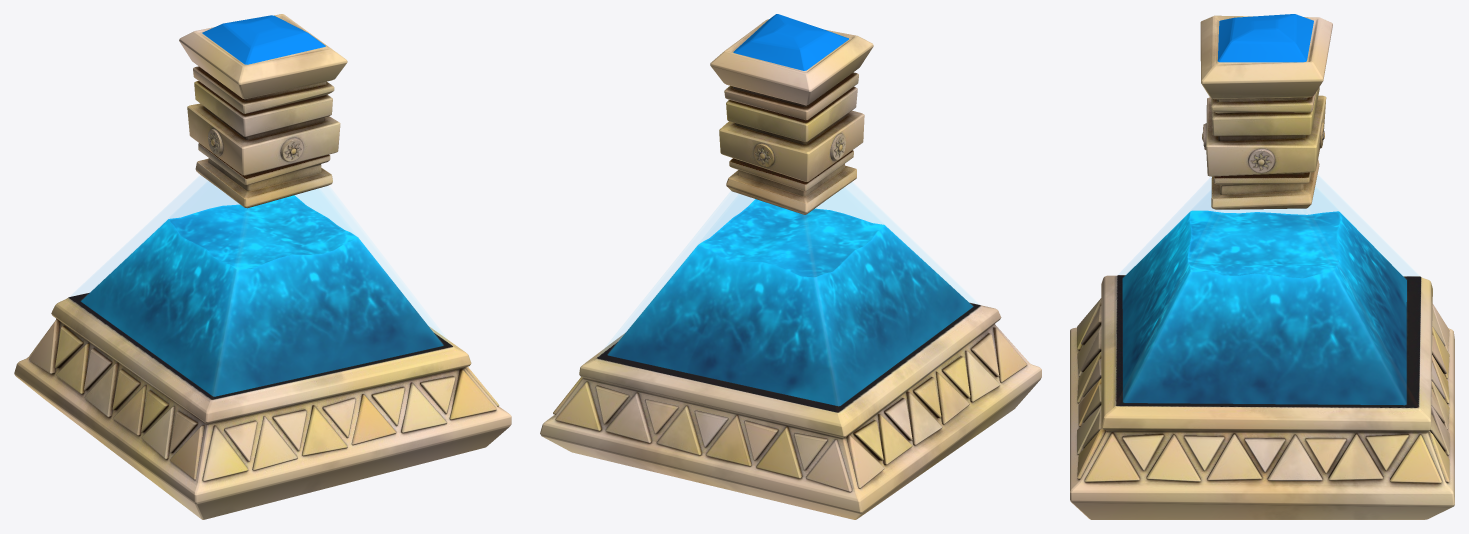
3 views of the same model, side by side, from view 1: azimuth 30°, elevation 25°; view 2: azimuth 150°, elevation 25°; view 3: azimuth 270°, elevation 25° (orthographic). The views are drawn at different scales.
Visible parts, largest first — view 1: Potion_High; view 2: Potion_High; view 3: Potion_High.
Boxes of the visible parts, x1,y1,x2,y2 form: Potion_High: [14, 14, 511, 519]; Potion_High: [540, 14, 1041, 519]; Potion_High: [1070, 14, 1454, 519].
Bounding box in the file's own units: 0.2359 × 0.2837 × 0.2315.
4 materials, 4 textured.
